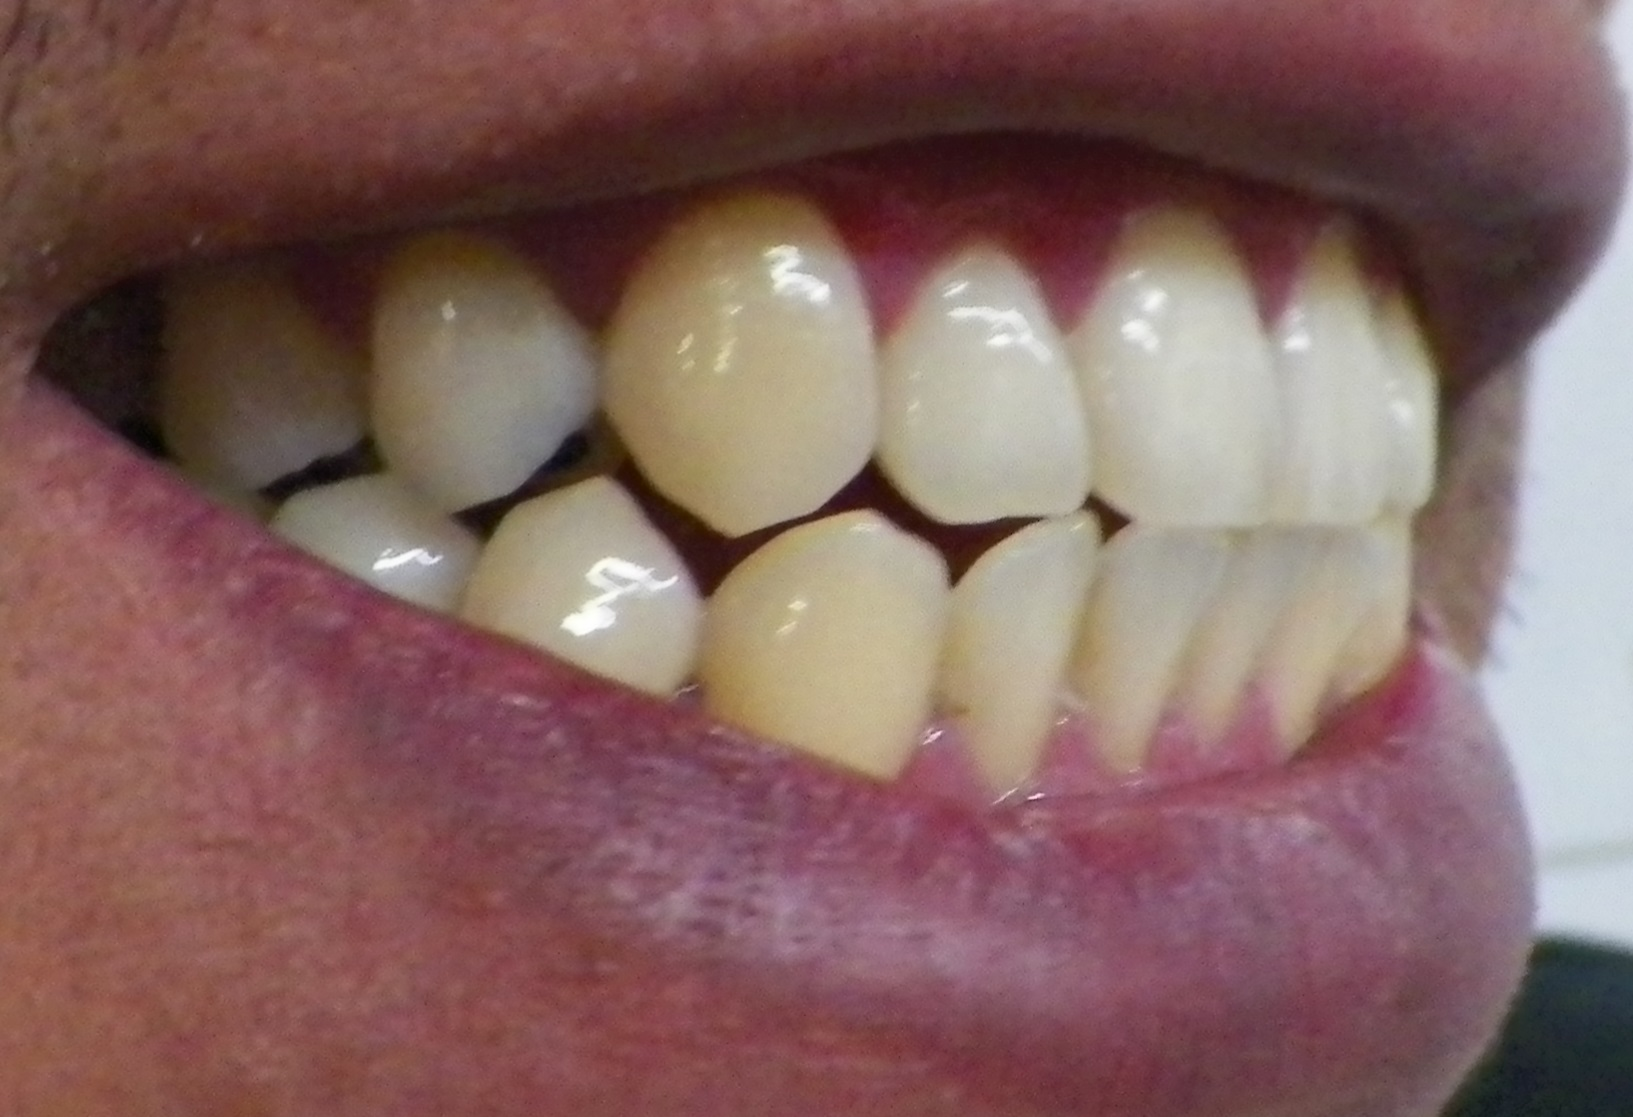boca: (103, 213, 1458, 765)
